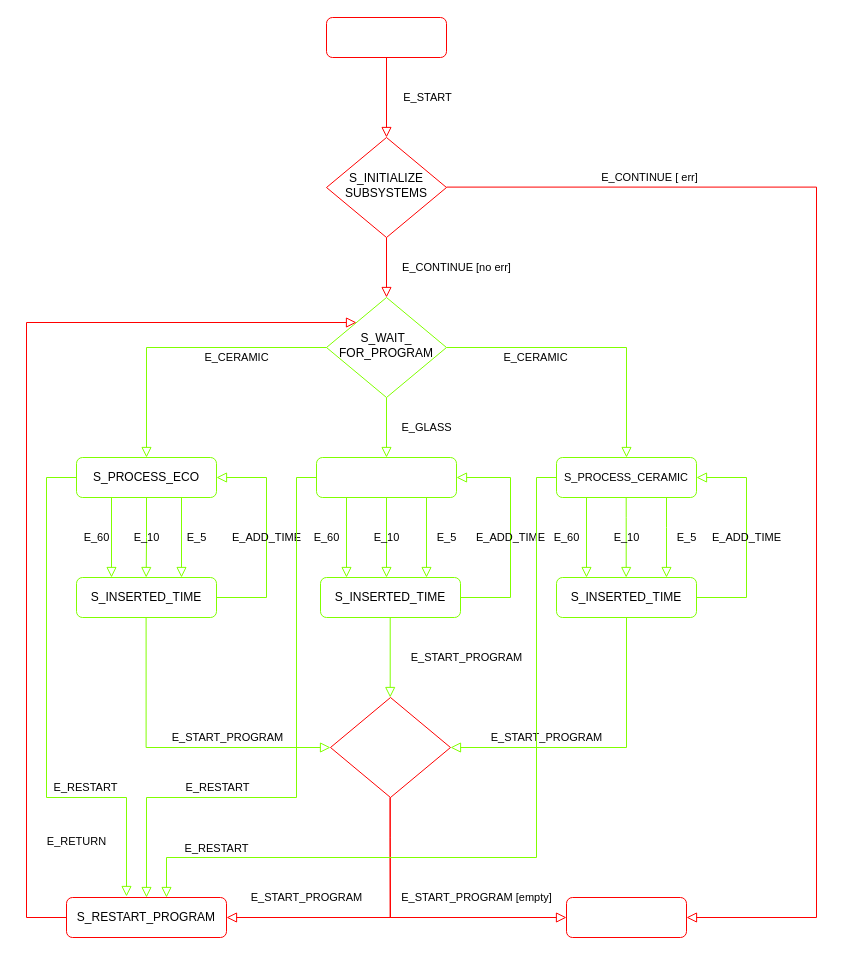
Some shapes in this 844 by 955 pixel diagram are drawn without their labels. The shapes that lost their labels are listed below. From the top down, each one's centre as x and y in pixels, then its label:
At (x=386, y=37): "S_NO".
At (x=386, y=477): "S_PROCESS_GLASS".
At (x=390, y=747): "S_START_ PROGRAM".
At (x=626, y=917): "S_STOP".
